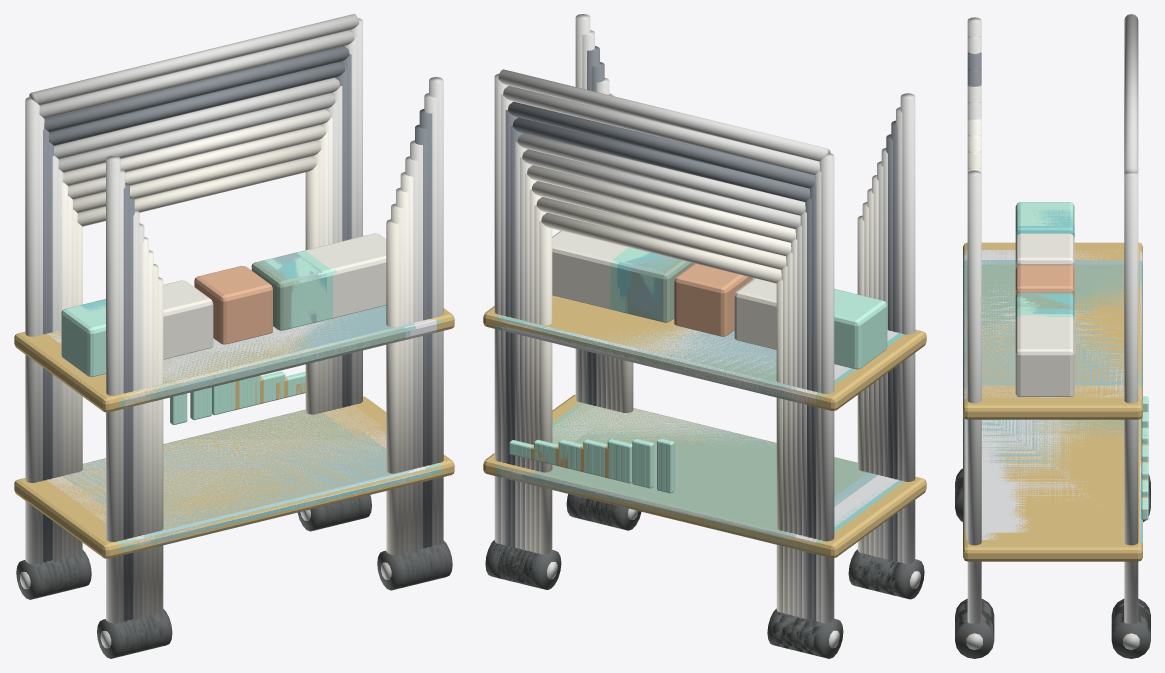
Rendered from Gear19.fbx.
3 renders of one model, left to right at view 1: azimuth 30°, elevation 25°; view 2: azimuth 150°, elevation 25°; view 3: azimuth 270°, elevation 25°, orthographic. The views are drawn at different scales.
Parts seen in each view (by area): view 1: Gear19_V10_Chrome, Gear19_V3_Blue, Gear19_V9_Gold, Gear19_V10_Gold, Gear19_V9_Chrome, Gear19_V8_Graphite, Gear19_V1_Ivory, Gear19_V7_Graphite, Gear19_V6_Chrome, Gear19_V5_Chrome, Gear19_V4_Linen, Gear19_V3_Linen (+27 smaller); view 2: Gear19_V10_Chrome, Gear19_V1_Sage, Gear19_V9_Chrome, Gear19_V10_Gold, Gear19_V8_Graphite, Gear19_V1_Ivory, Gear19_V7_Graphite, Gear19_V6_Chrome, Gear19_V4_Linen, Gear19_V5_Chrome, Gear19_V3_Linen, Gear19_V2_Ivory (+33 smaller); view 3: Gear19_V10_Gold, Gear19_V10_Chrome, Gear19_V9_Gold, Gear19_V2_Blue, Gear19_V1_Sage, Gear19_V10_Linen, Gear19_V5_Platinum, Gear19_V4_Platinum, Gear19_V7_Platinum, Gear19_V10_Tyre, Gear19_V3_Blue, Gear19_V10_Glow (+16 smaller).
Boxes of the visible parts, box(x1,y1,x2,y2) form: Gear19_V10_Chrome: box(20, 14, 443, 648); Gear19_V3_Blue: box(62, 305, 415, 537); Gear19_V9_Gold: box(23, 314, 447, 550); Gear19_V10_Gold: box(14, 308, 454, 558); Gear19_V9_Chrome: box(38, 30, 437, 622); Gear19_V8_Graphite: box(43, 46, 432, 621); Gear19_V1_Ivory: box(76, 156, 399, 612); Gear19_V7_Graphite: box(47, 62, 427, 619); Gear19_V6_Chrome: box(52, 77, 422, 618); Gear19_V5_Chrome: box(57, 93, 418, 617); Gear19_V4_Linen: box(62, 109, 413, 616); Gear19_V3_Linen: box(66, 125, 408, 615); Gear19_V10_Chrome: box(494, 14, 920, 648); Gear19_V1_Sage: box(532, 259, 867, 542); Gear19_V9_Chrome: box(501, 30, 902, 622); Gear19_V10_Gold: box(483, 295, 926, 557); Gear19_V8_Graphite: box(505, 46, 897, 620); Gear19_V1_Ivory: box(539, 213, 864, 612); Gear19_V7_Graphite: box(510, 62, 892, 619); Gear19_V6_Chrome: box(515, 78, 887, 618); Gear19_V4_Linen: box(525, 165, 878, 616); Gear19_V5_Chrome: box(520, 93, 883, 617); Gear19_V3_Linen: box(529, 181, 873, 615); Gear19_V2_Ivory: box(534, 197, 868, 613); Gear19_V10_Gold: box(963, 242, 1142, 561); Gear19_V10_Chrome: box(966, 14, 1139, 650); Gear19_V9_Gold: box(963, 245, 1142, 548); Gear19_V2_Blue: box(963, 265, 1142, 530); Gear19_V1_Sage: box(963, 264, 1142, 452); Gear19_V10_Linen: box(1015, 233, 1074, 396); Gear19_V5_Platinum: box(963, 255, 1142, 477); Gear19_V4_Platinum: box(963, 261, 1142, 532); Gear19_V7_Platinum: box(964, 250, 1142, 543); Gear19_V10_Tyre: box(955, 468, 1150, 658); Gear19_V3_Blue: box(963, 260, 1142, 477); Gear19_V10_Glow: box(1015, 202, 1148, 520).
Size of the model in its own units: 101 by 138 by 50.
